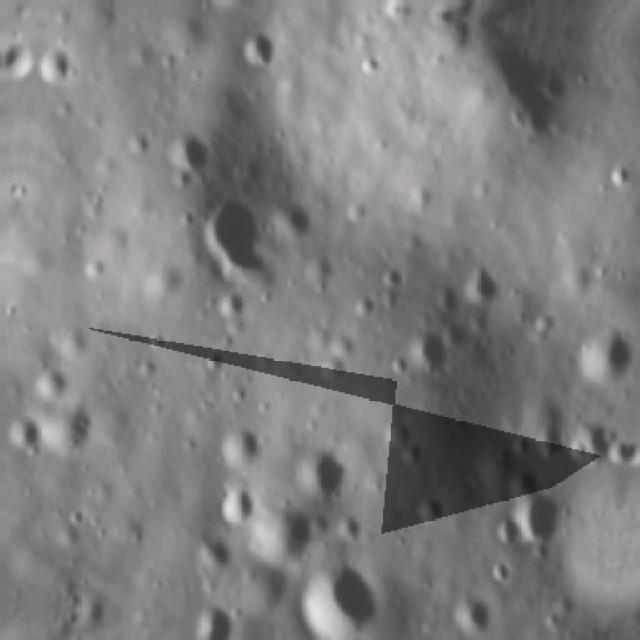crater: (294, 555, 391, 640), (188, 189, 278, 277), (563, 316, 640, 387), (253, 502, 329, 573), (567, 409, 630, 473), (512, 482, 573, 548), (156, 119, 224, 178), (292, 439, 348, 501), (397, 320, 457, 374), (230, 18, 284, 77), (212, 417, 266, 474), (0, 401, 48, 464), (456, 252, 510, 308), (446, 589, 500, 640), (29, 38, 76, 96), (269, 190, 317, 245), (212, 481, 258, 528), (191, 528, 238, 572), (29, 363, 72, 402), (486, 511, 525, 551), (210, 282, 247, 324), (501, 462, 541, 500), (188, 600, 235, 631), (352, 48, 390, 82), (192, 0, 268, 14), (604, 158, 636, 190), (41, 0, 85, 11), (341, 634, 368, 640)
